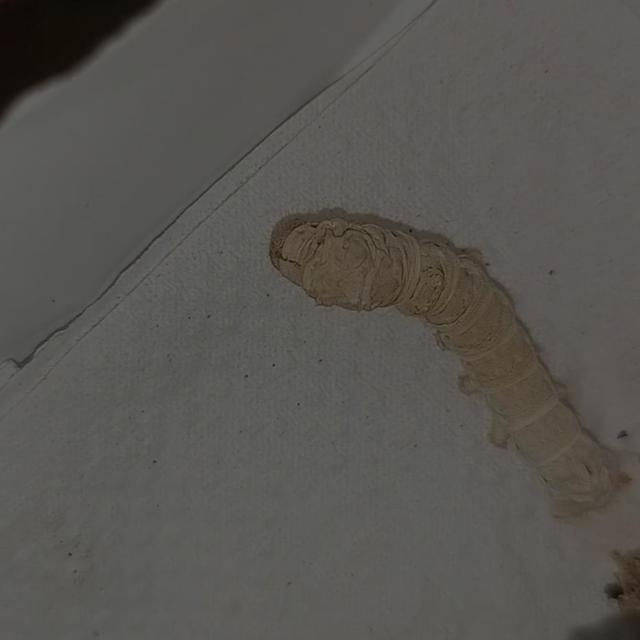Healthy: (239, 176, 637, 546)
